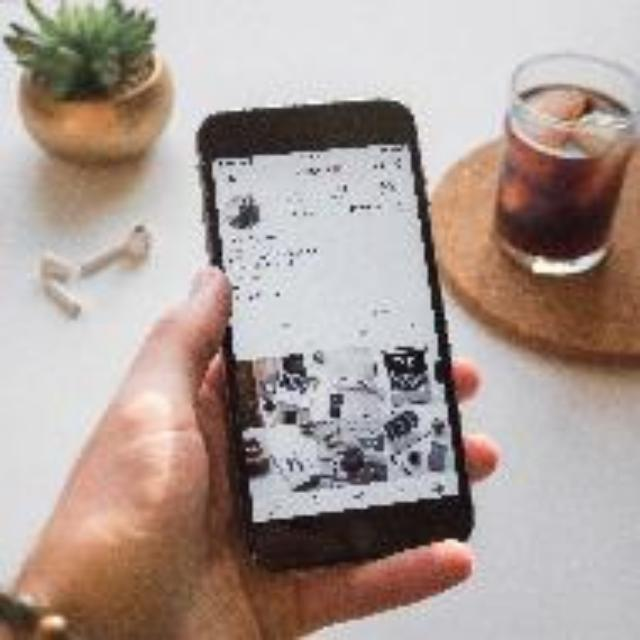phone: (184, 93, 486, 574)
